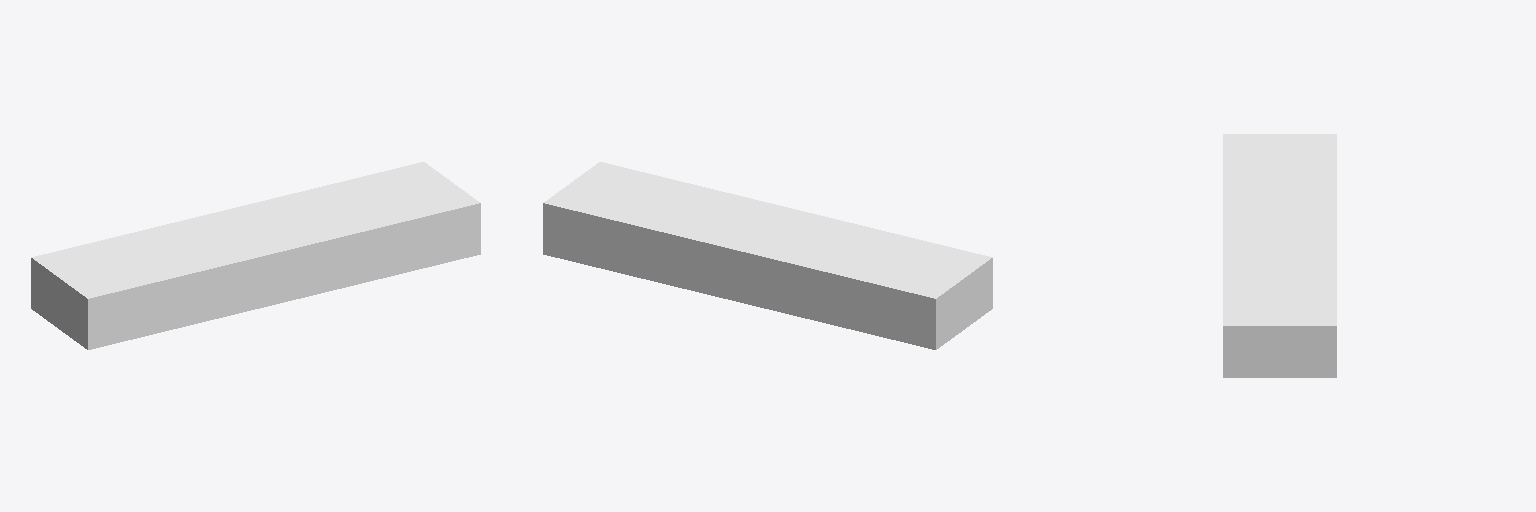
Rendered from test_plank_1.obj.
3 views of the same model, side by side, from view 1: azimuth 30°, elevation 25°; view 2: azimuth 150°, elevation 25°; view 3: azimuth 270°, elevation 25° (orthographic).
Parts seen in each view (by area): view 1: object 1; view 2: object 1; view 3: object 1.
Boxes of the visible parts, box(x1,y1,x2,y2) form: object 1: box(31, 162, 480, 349); object 1: box(543, 162, 992, 349); object 1: box(1223, 134, 1336, 377).
Size of the model in its own units: 3.2 by 0.4 by 0.8.